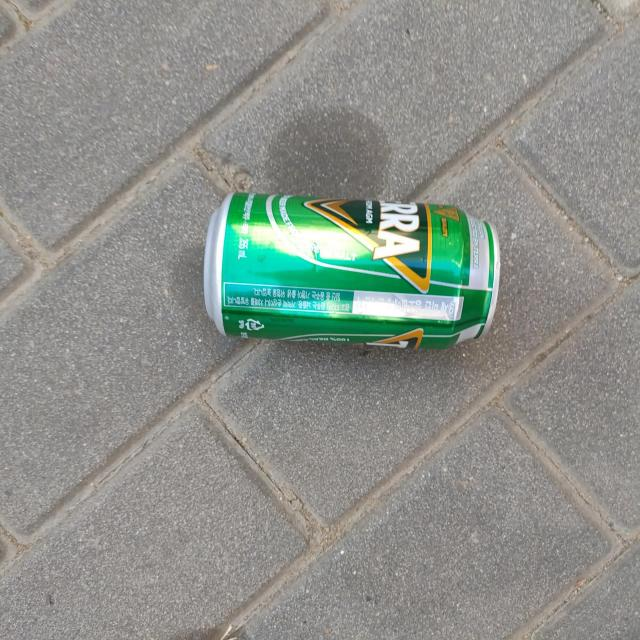can: (204, 193, 501, 349)
